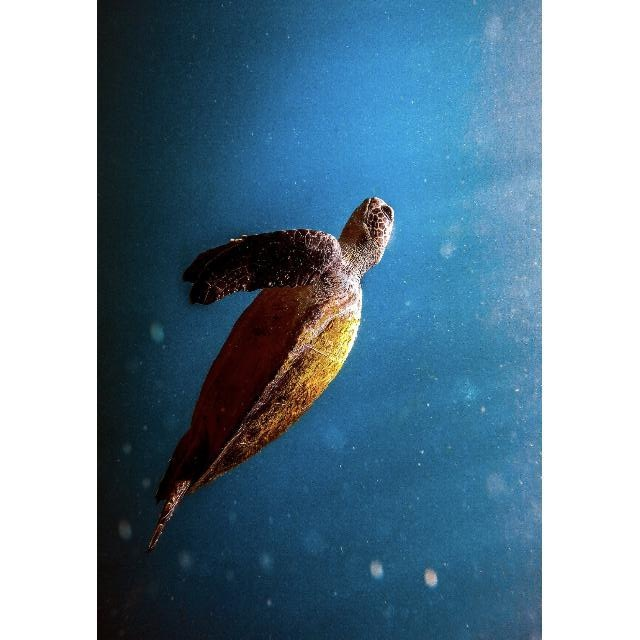turtle: (144, 194, 396, 551)
